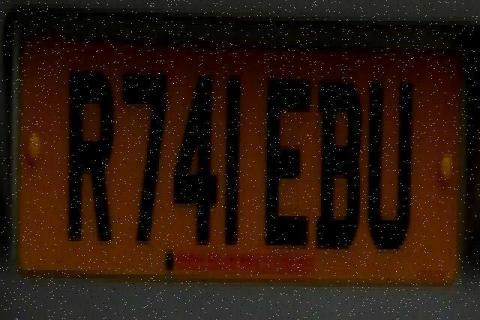LicensePlate: (15, 16, 463, 290)
